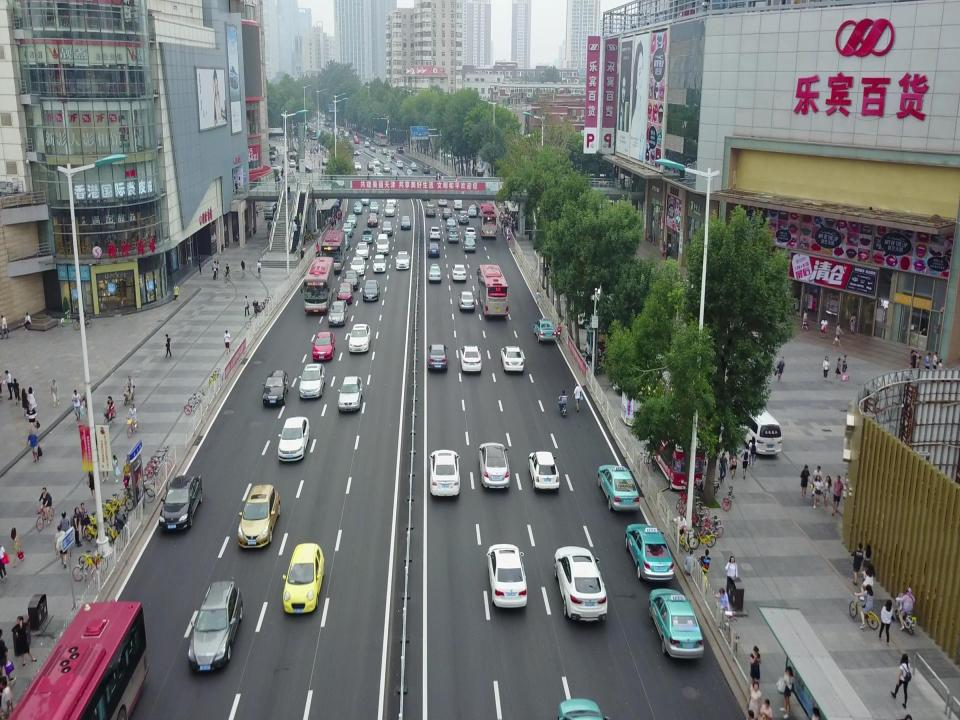bus: (5, 603, 147, 716), (304, 257, 334, 311), (478, 265, 509, 315), (320, 231, 344, 272), (479, 205, 497, 236), (374, 134, 387, 145), (308, 128, 318, 138), (303, 124, 311, 134)
car: (186, 581, 244, 668), (554, 549, 608, 623), (648, 591, 704, 658), (282, 542, 326, 614), (488, 546, 530, 610), (626, 522, 672, 578), (238, 487, 280, 545), (158, 476, 202, 528), (599, 466, 640, 510), (430, 448, 462, 497), (478, 443, 508, 489), (280, 416, 312, 459), (530, 450, 560, 490), (300, 364, 326, 399), (262, 372, 289, 404), (338, 376, 363, 409), (577, 307, 615, 328), (348, 324, 370, 353), (459, 346, 482, 371), (314, 330, 334, 358), (501, 348, 523, 372), (534, 318, 556, 342), (428, 344, 447, 370), (329, 301, 347, 324), (337, 283, 353, 306), (363, 280, 379, 300), (343, 270, 359, 289), (458, 292, 474, 310), (372, 254, 386, 272), (350, 256, 364, 274), (334, 234, 350, 249), (376, 234, 388, 254), (396, 252, 409, 270), (355, 242, 369, 258), (428, 265, 442, 281), (452, 265, 466, 280), (340, 223, 354, 236), (361, 228, 373, 243), (367, 212, 379, 227), (463, 228, 477, 240), (382, 221, 393, 236), (346, 213, 358, 226), (400, 216, 412, 229), (464, 238, 476, 251), (429, 226, 441, 239), (428, 242, 439, 256), (458, 211, 469, 224), (385, 203, 395, 217), (468, 205, 480, 216), (446, 218, 456, 231), (296, 164, 312, 172), (369, 202, 379, 213), (353, 202, 363, 213), (448, 231, 458, 242), (442, 208, 452, 219), (426, 205, 436, 216), (386, 195, 396, 206), (454, 196, 462, 209), (266, 165, 282, 171), (437, 196, 447, 205), (361, 195, 371, 204), (422, 190, 430, 201), (367, 161, 375, 171), (459, 157, 471, 163), (394, 161, 404, 168), (372, 167, 382, 174), (376, 173, 386, 180), (447, 154, 458, 160), (372, 171, 380, 179), (384, 155, 392, 163), (405, 170, 414, 177), (390, 170, 398, 177), (409, 163, 417, 170), (383, 165, 391, 172), (354, 162, 362, 169), (475, 169, 483, 176), (289, 160, 295, 168), (322, 157, 328, 165), (372, 159, 380, 165), (381, 148, 389, 154), (439, 151, 451, 155), (387, 150, 394, 156), (397, 146, 404, 152), (443, 152, 453, 156), (353, 150, 359, 156), (353, 138, 359, 144), (369, 147, 375, 152), (364, 141, 370, 146), (354, 134, 358, 138), (340, 127, 344, 131), (346, 131, 350, 135), (333, 128, 337, 132), (319, 124, 324, 127), (328, 128, 332, 131), (321, 121, 325, 124), (326, 123, 330, 126)
van: (652, 417, 706, 490), (730, 398, 782, 454), (586, 328, 618, 365), (263, 202, 277, 217), (268, 151, 276, 159), (422, 164, 430, 172)
